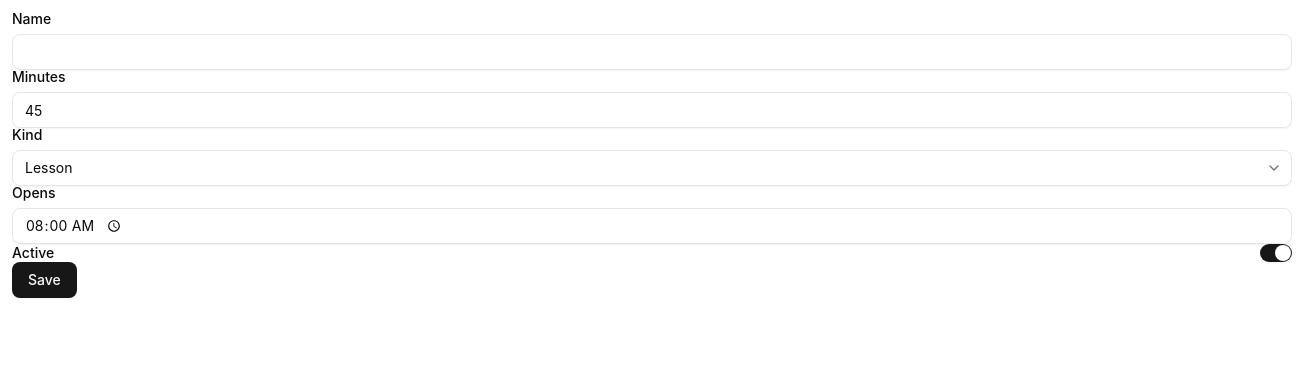
form field components › shows translated inline errors from the zod schema and blocks submit
Replace the text in the number field labelled "Minutes" with "3" at [652, 110], box [12, 92, 1292, 128]
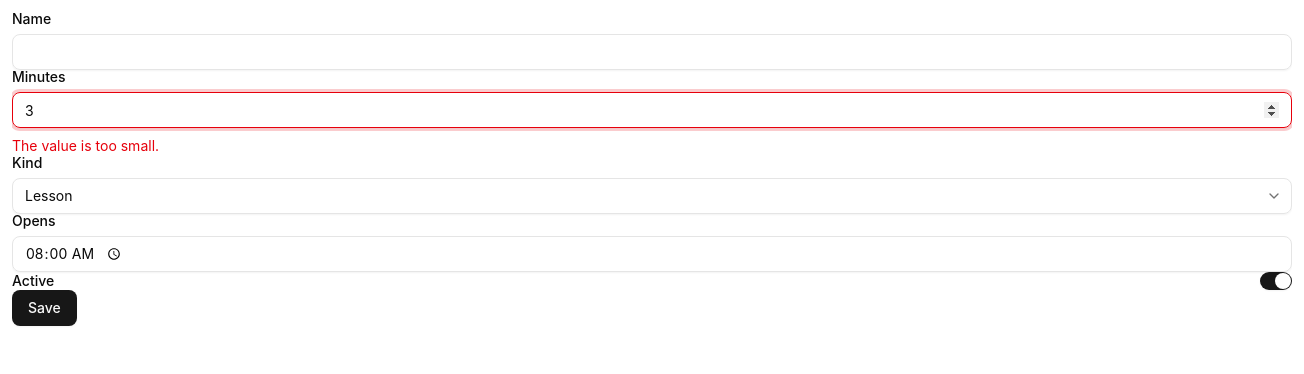
Click the button "Save" at [44, 308], box [12, 290, 77, 326]
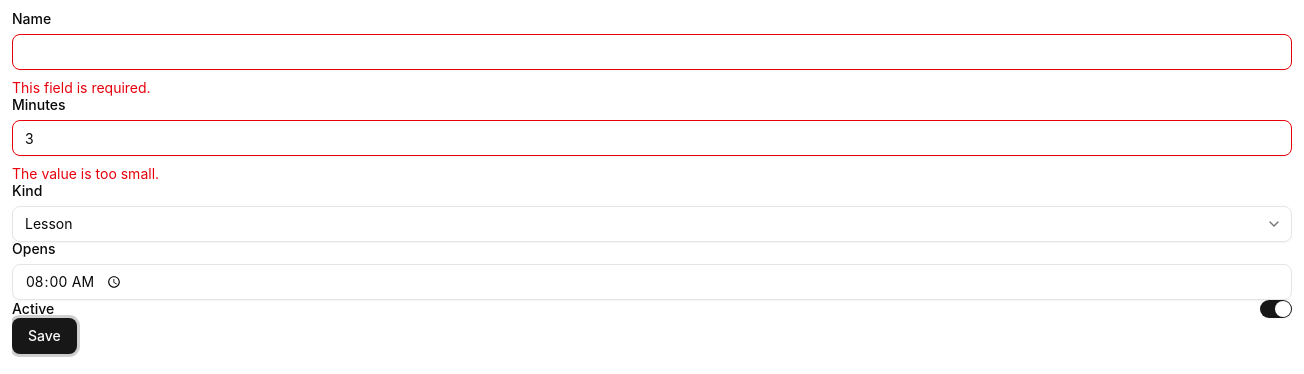
Now the text "The value is too small." is shown, box [12, 165, 159, 182]
Now the text "This field is required." is shown, box [12, 79, 151, 96]
